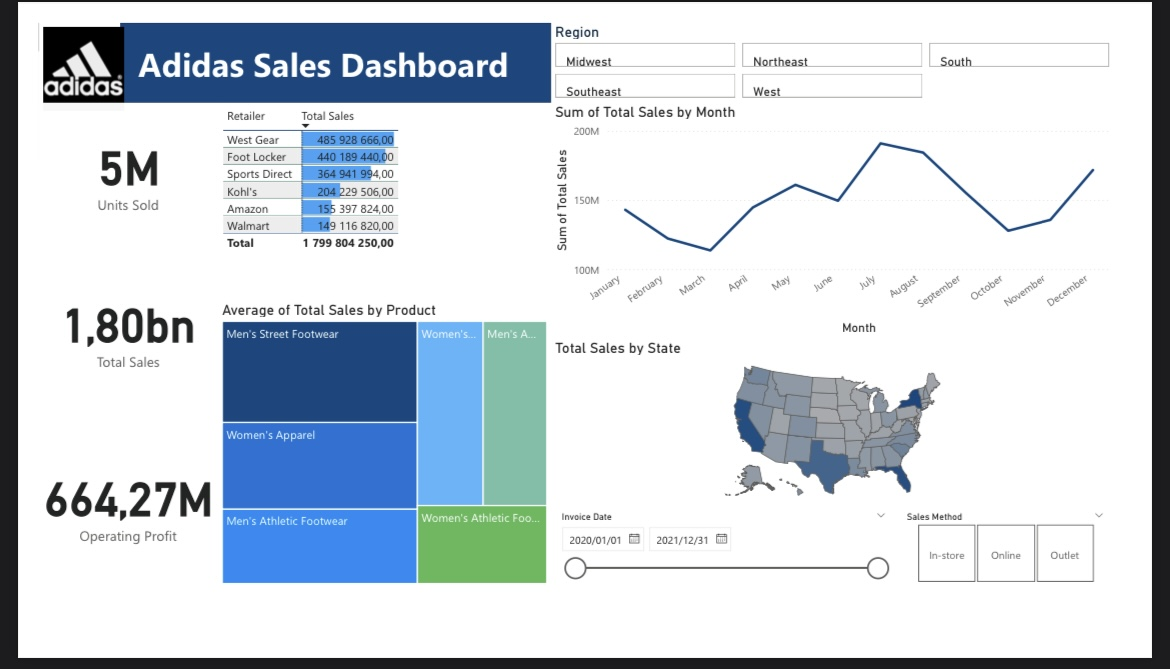

The dashboard page shown, as its layout file describes it:
{"tool":"powerbi","page":{"name":"Page 1","canvas":[1280,720],"ordinal":0},"visuals":[{"type":"shape","box":[95,0,504.6,93.6],"z":0},{"type":"card","fields":{"Values":["Sum(Append1.Operating Profit)"]},"box":[0,462.1,209.8,199.9],"z":2000},{"type":"treemap","fields":{"Group":["Append1.Product"],"Values":["Avg(Append1.Total Sales)"]},"box":[209.8,326,389.8,335.9],"z":3000},{"type":"tableEx","fields":{"Values":["Append1.Retailer","Sum(Append1.Total Sales)"]},"box":[209.8,93.6,389.8,232.5],"z":4000},{"type":"slicer","fields":{"Values":["Append1.Sales Method"]},"box":[1003.6,567,256.6,95],"z":6000},{"type":"slicer","fields":{"Values":["Append1.Invoice Date"]},"box":[599.6,567,404,95],"z":7000},{"type":"shapeMap","fields":{"Category":["Append1.State"],"Value":["Sum(Append1.Total Sales)"]},"box":[599.6,370,660.6,197],"z":8000},{"type":"advancedSlicerVisual","fields":{"Values":["Append1.Region"]},"box":[599.6,0,660.6,93.6],"z":9000},{"type":"image","box":[0,0,104.9,109.1],"z":10000},{"type":"card","fields":{"Values":["Sum(Append1.Total Sales)"]},"box":[0,255.1,209.8,207],"z":10001},{"type":"card","fields":{"Values":["Sum(Append1.Units Sold)"]},"box":[0,93.6,209.8,161.6],"z":10002},{"type":"lineChart","fields":{"Category":["Append1.Invoice Date.Variation.Date Hierarchy.Month"],"Y":["Sum(Append1.Total Sales)"]},"box":[599.6,93.6,660.6,276.4],"z":10003}]}

Visuals, with their boxes in screenshot pixels (x1, y1, x2, y2), scaled from the page's 1280x720 canvas onto the 1170x669 screenshot:
shape: x1=87, y1=0, x2=548, y2=87
card - Sum(Append1.Operating Profit): x1=0, y1=429, x2=192, y2=615
treemap - Append1.Product x Avg(Append1.Total Sales): x1=192, y1=303, x2=548, y2=615
tableEx - Append1.Retailer x Sum(Append1.Total Sales): x1=192, y1=87, x2=548, y2=303
slicer - Append1.Sales Method: x1=917, y1=527, x2=1152, y2=615
slicer - Append1.Invoice Date: x1=548, y1=527, x2=917, y2=615
shapeMap - Append1.State x Sum(Append1.Total Sales): x1=548, y1=344, x2=1152, y2=527
advancedSlicerVisual - Append1.Region: x1=548, y1=0, x2=1152, y2=87
image: x1=0, y1=0, x2=96, y2=101
card - Sum(Append1.Total Sales): x1=0, y1=237, x2=192, y2=429
card - Sum(Append1.Units Sold): x1=0, y1=87, x2=192, y2=237
lineChart - Append1.Invoice Date.Variation.Date Hierarchy.Month x Sum(Append1.Total Sales): x1=548, y1=87, x2=1152, y2=344
